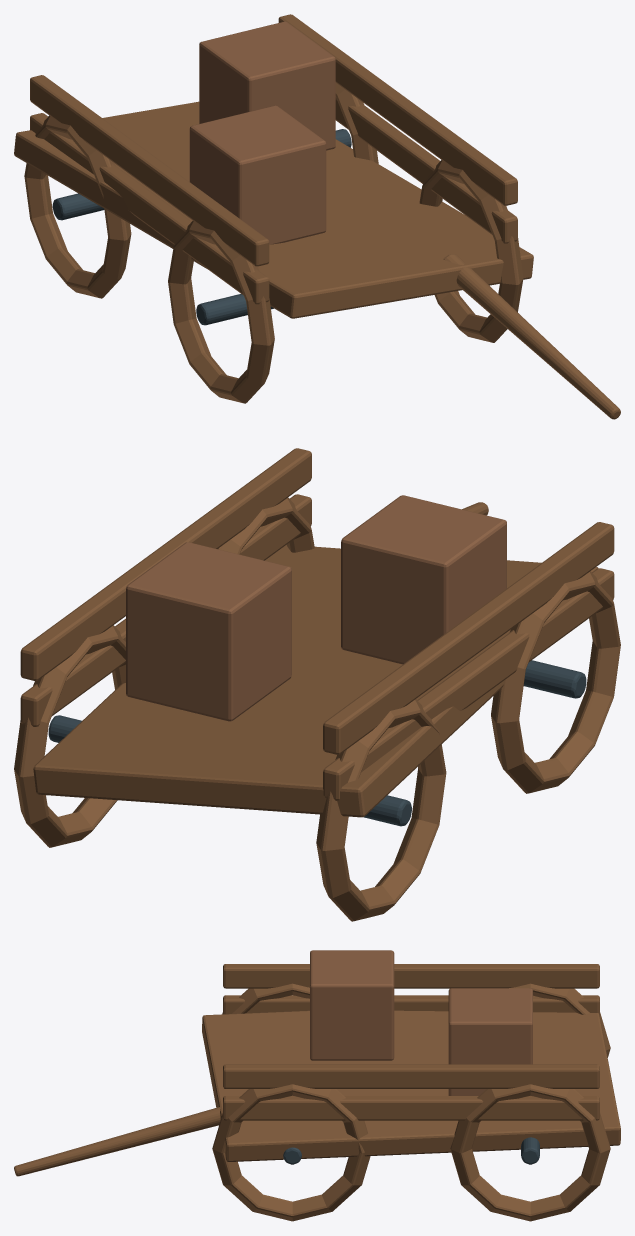
File: wrecked_caravan.glb
3 views of the same model, one above another, from view 1: azimuth 30°, elevation 25°; view 2: azimuth 150°, elevation 25°; view 3: azimuth 270°, elevation 25° (orthographic). The views are drawn at different scales.
Parts seen in each view (by area): view 1: WagonBed, CargoCrate, Axle.002; view 2: WagonBed, CargoCrate, Axle.002; view 3: WagonBed, CargoCrate, Axle.002.
Part boxes in pixels (x1=…): WagonBed: x1=14, y1=14, x2=620, y2=419; CargoCrate: x1=189, y1=21, x2=335, y2=244; Axle.002: x1=52, y1=129, x2=351, y2=325; WagonBed: x1=14, y1=448, x2=620, y2=921; CargoCrate: x1=126, y1=495, x2=506, y2=721; Axle.002: x1=48, y1=660, x2=586, y2=826; WagonBed: x1=14, y1=964, x2=620, y2=1221; CargoCrate: x1=310, y1=950, x2=532, y2=1095; Axle.002: x1=283, y1=1137, x2=539, y2=1164.
Size of the model in its own units: 2.88 by 2.03 by 6.12.
